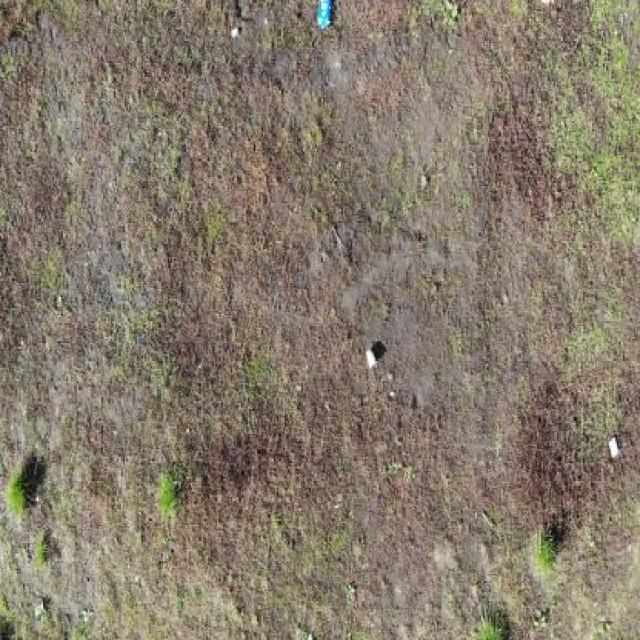Garbage: (315, 0, 334, 30), (607, 433, 620, 460), (364, 347, 378, 372)
